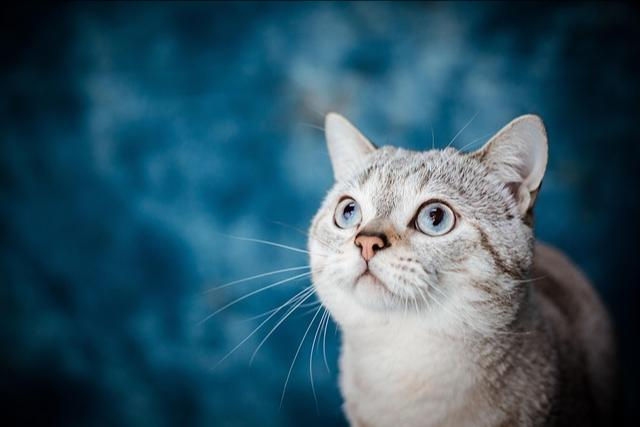Non_Gorille: (36, 9, 640, 420)
